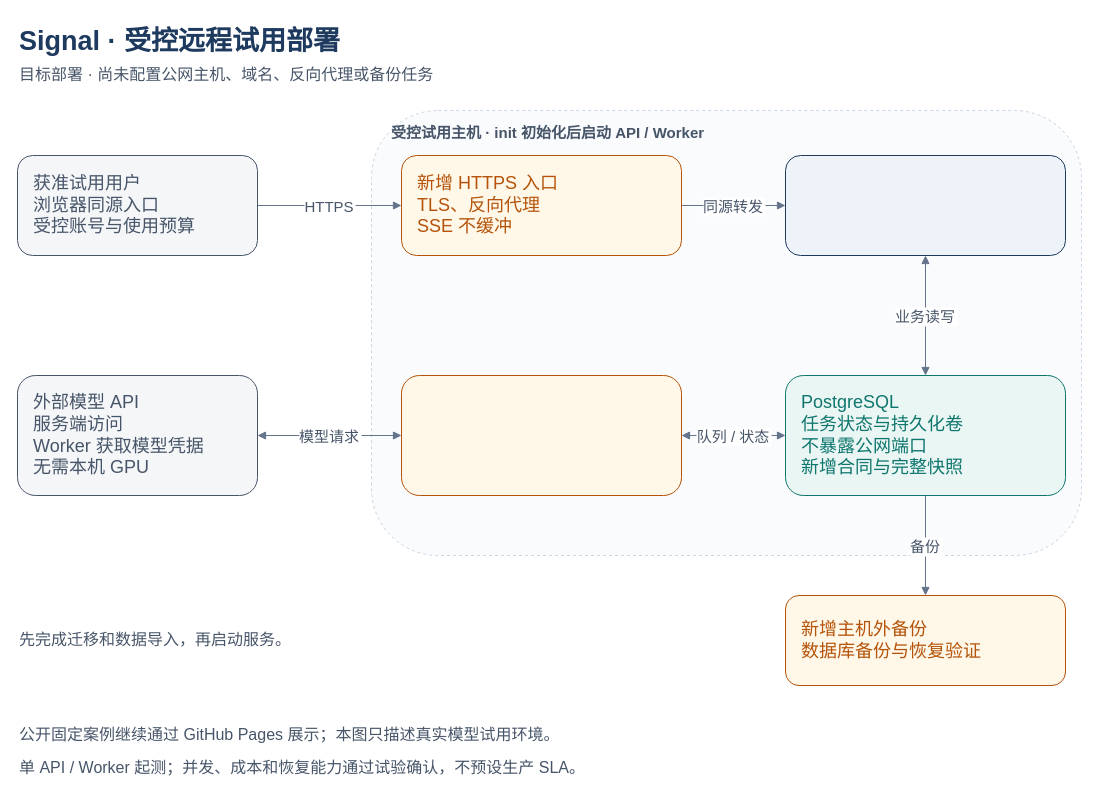
This 1099x798 diagram has some shape labels left out. The shapes that lost their labels are listed below. From the top down, each one's centre as x and y in pixels, then its label:
At pixel 925 205: "API 容器 React 静态文件 + FastAPI 安全 Cookie、来源校验".
At pixel 541 435: "Worker 容器 租约、检查点、预算 同一构建版本 新增健康与累计限额".
